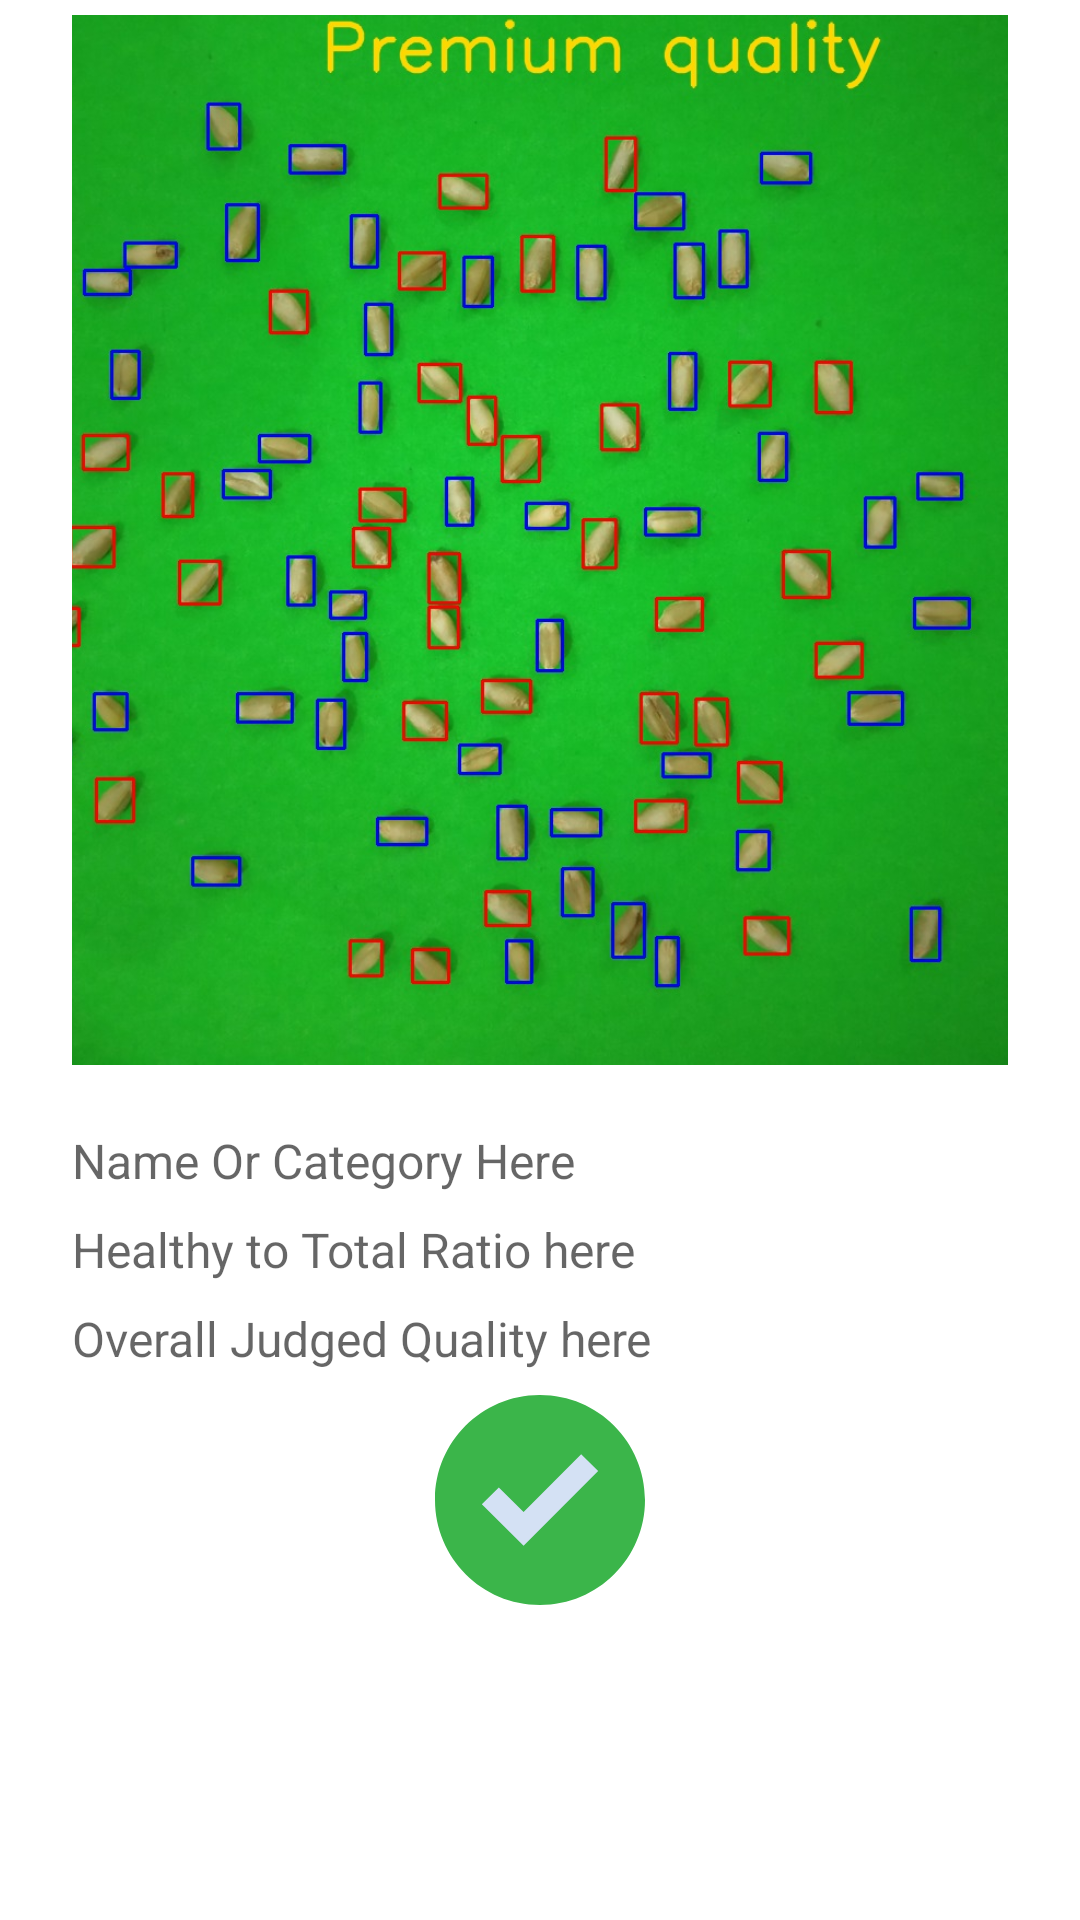

Where icons sit on this 1080 x 1920 app screen, as detection(x1, y1, x2, y2):
tick: detection(435, 1395, 645, 1605)
